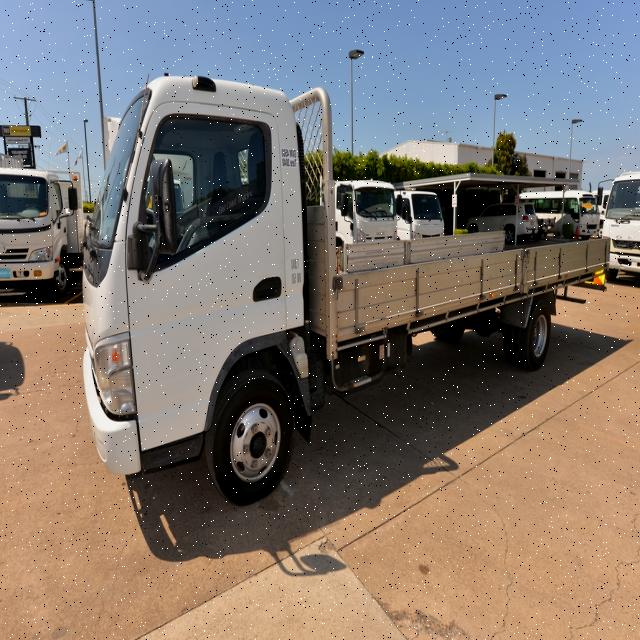truck: (82, 71, 612, 506)
